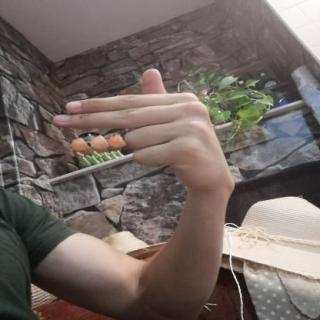GHAYN: (38, 60, 252, 204)
